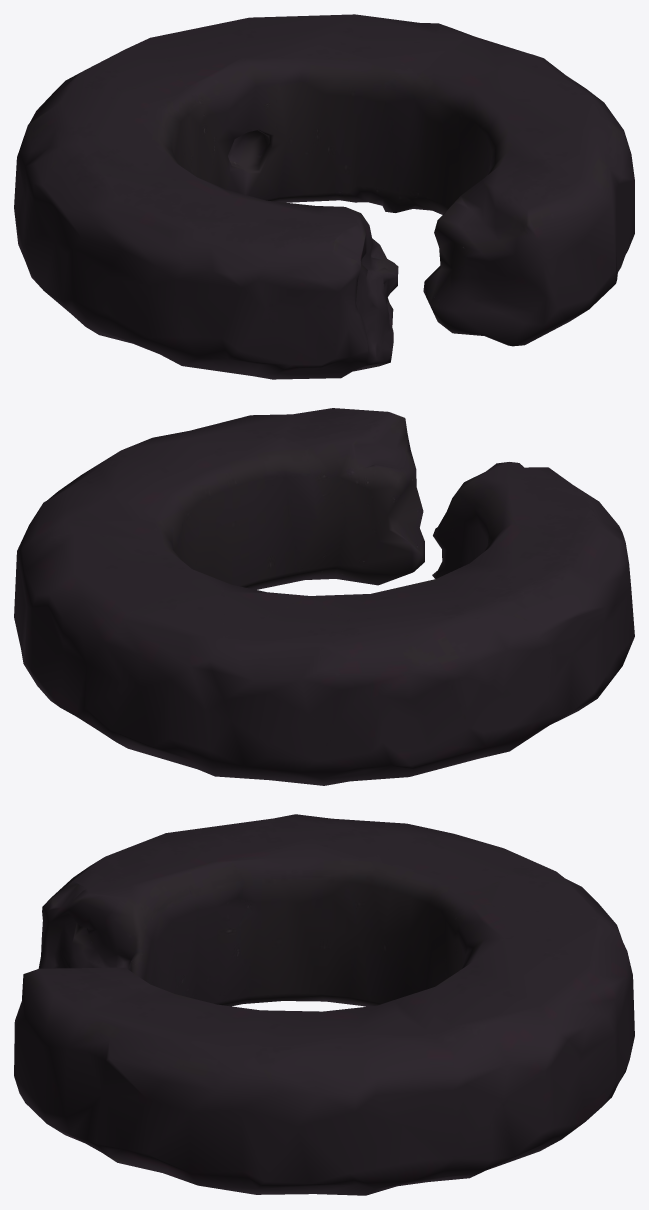
The model's file is broken-halo.glb.
3 views of the same model, one above another, from view 1: azimuth 30°, elevation 25°; view 2: azimuth 150°, elevation 25°; view 3: azimuth 270°, elevation 25° (orthographic). The views are drawn at different scales.
Visible parts, largest first — view 1: tripo_node_11af5490-5a26-4cd5-8408-1f7c90e779f1; view 2: tripo_node_11af5490-5a26-4cd5-8408-1f7c90e779f1; view 3: tripo_node_11af5490-5a26-4cd5-8408-1f7c90e779f1.
Part boxes in pixels (<box>): tripo_node_11af5490-5a26-4cd5-8408-1f7c90e779f1: <box>14,14,634,379</box>; tripo_node_11af5490-5a26-4cd5-8408-1f7c90e779f1: <box>14,408,634,785</box>; tripo_node_11af5490-5a26-4cd5-8408-1f7c90e779f1: <box>14,814,634,1195</box>.
Bounding box in the file's own units: 0.9807 × 0.2582 × 0.9579.
Materials: 1 (1 with a texture image).
